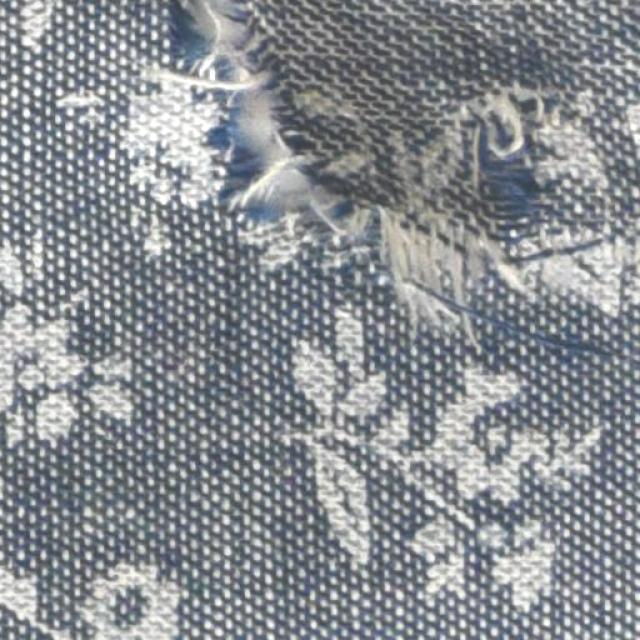Hole: (226, 42, 316, 204)
Snag: (347, 89, 634, 354)
